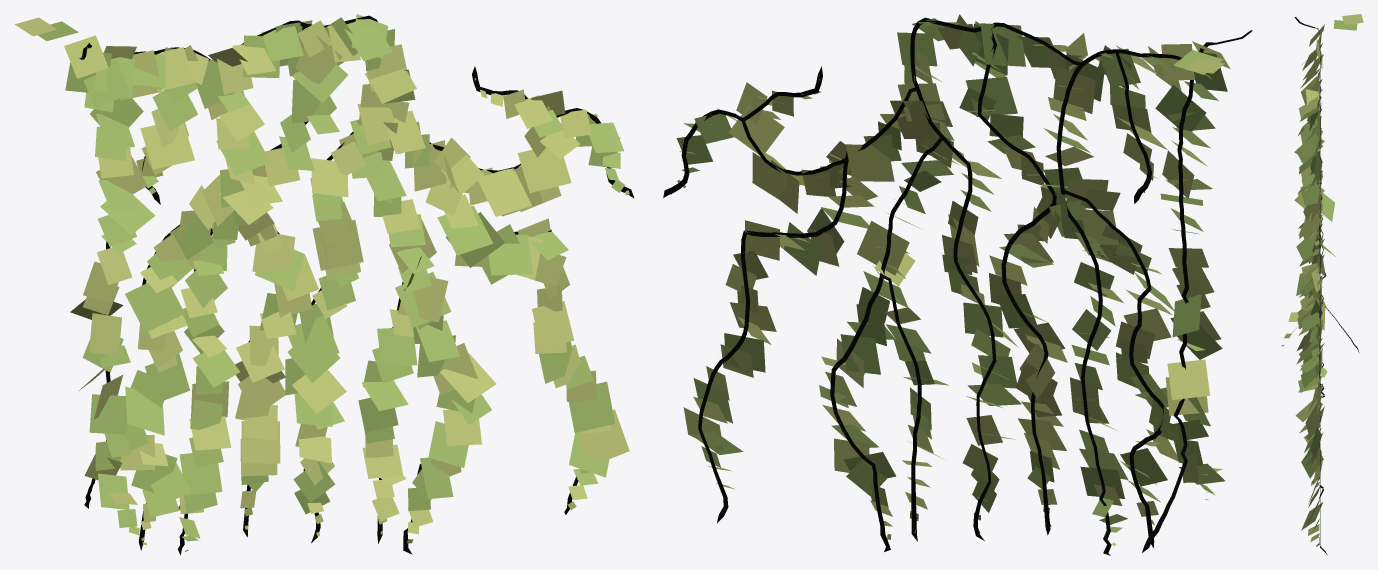
The model's file is Vine - wall 04.fbx.
The picture shows the model from 3 angles, left to right: view 1: azimuth 30°, elevation 25°; view 2: azimuth 150°, elevation 25°; view 3: azimuth 270°, elevation 25°; orthographic projection. The views are drawn at different scales.
Parts seen in each view (by area): view 1: Vine_wall_04_LOD0; view 2: Vine_wall_04_LOD0; view 3: Vine_wall_04_LOD0.
Boxes of the visible parts, box(x1,y1,x2,y2) form: Vine_wall_04_LOD0: box(15, 14, 633, 555); Vine_wall_04_LOD0: box(663, 14, 1252, 555); Vine_wall_04_LOD0: box(1281, 14, 1363, 554).
Size of what is drawn, in the model's own units: 3.59 by 0.6926 by 3.52.
